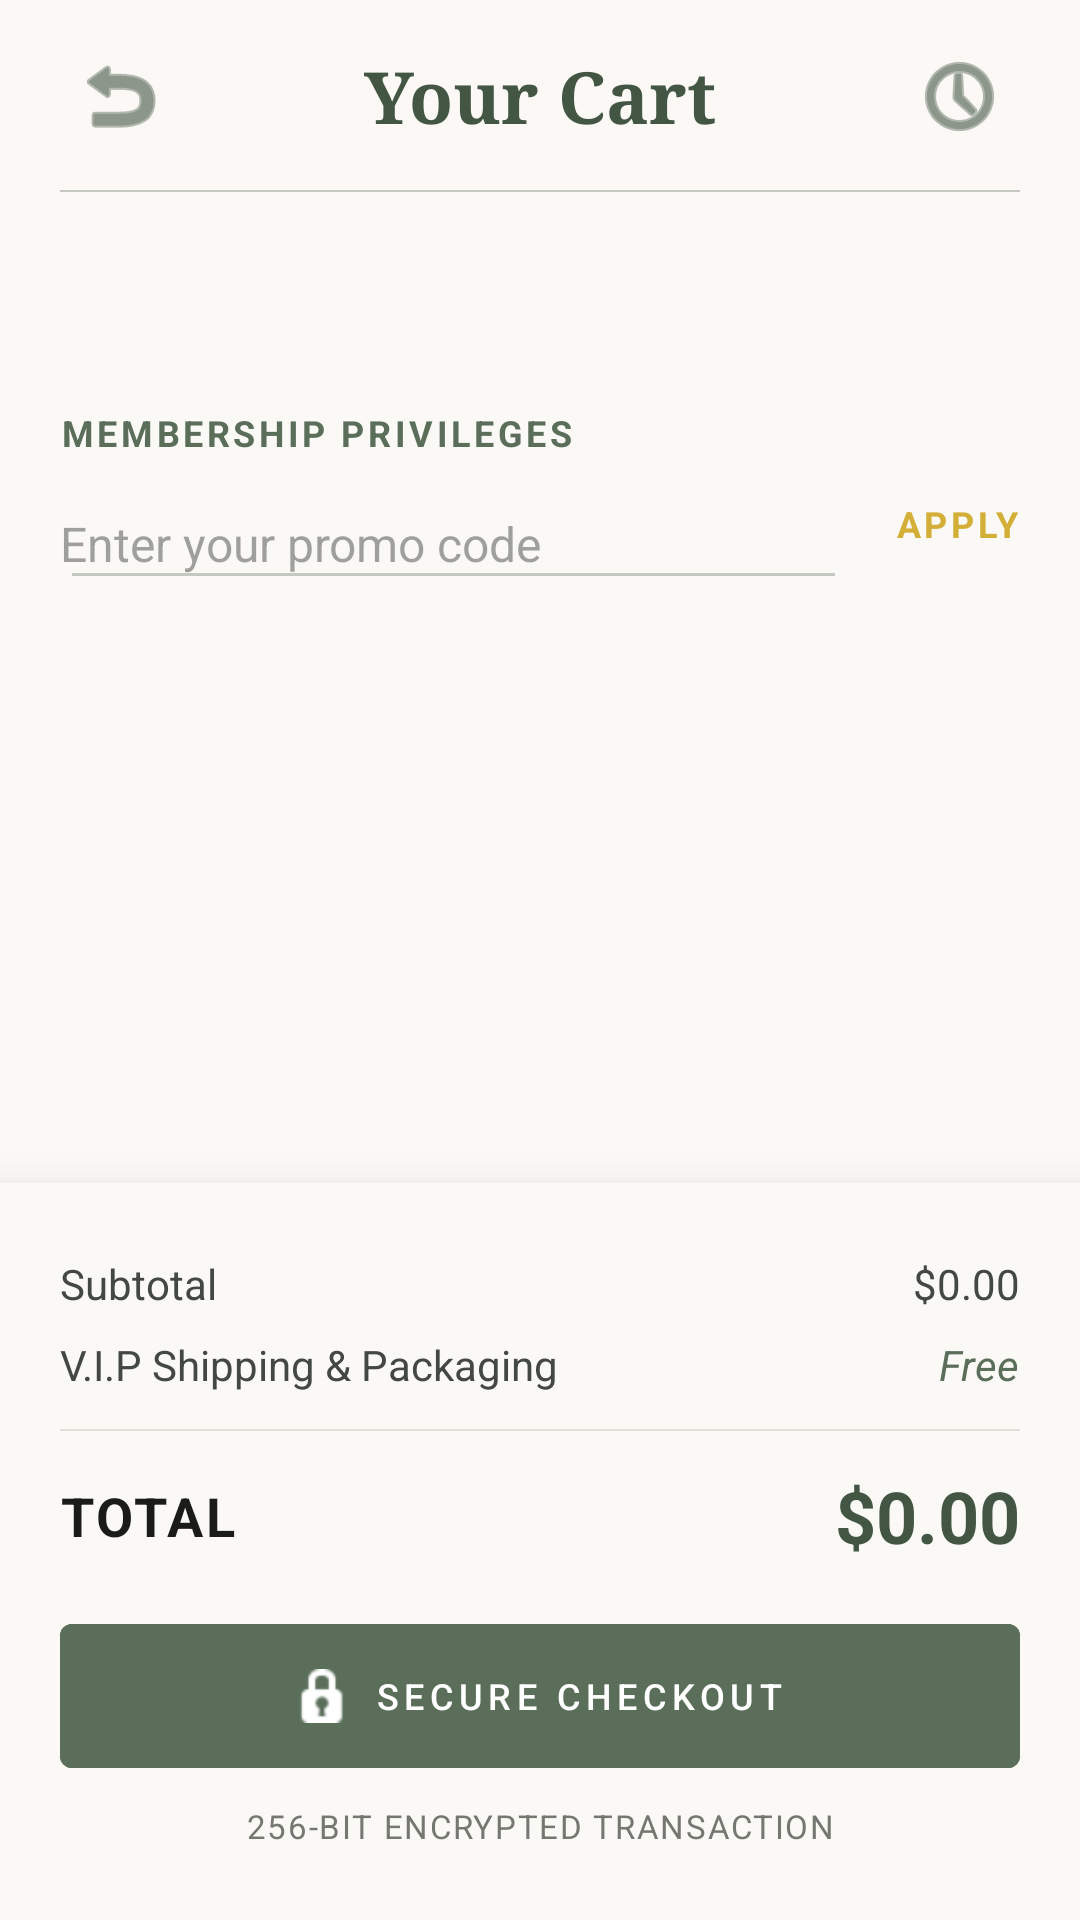

Where icons sit on this 1080x1920 app screen, as {"x1": x1, "y1": y1, "x2": x2, "y2": y2}:
recent history: {"x1": 925, "y1": 62, "x2": 994, "y2": 131}
revert: {"x1": 87, "y1": 65, "x2": 156, "y2": 128}
